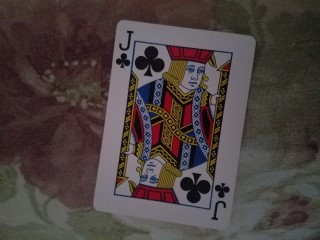JackOfClubs: (93, 20, 257, 230)
